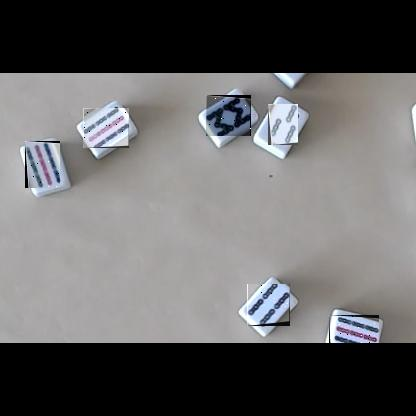3s: (268, 104, 298, 145)
4s: (247, 284, 290, 326)
8s: (206, 95, 251, 136)
9s: (83, 108, 129, 148), (25, 141, 60, 188), (329, 315, 379, 343)
